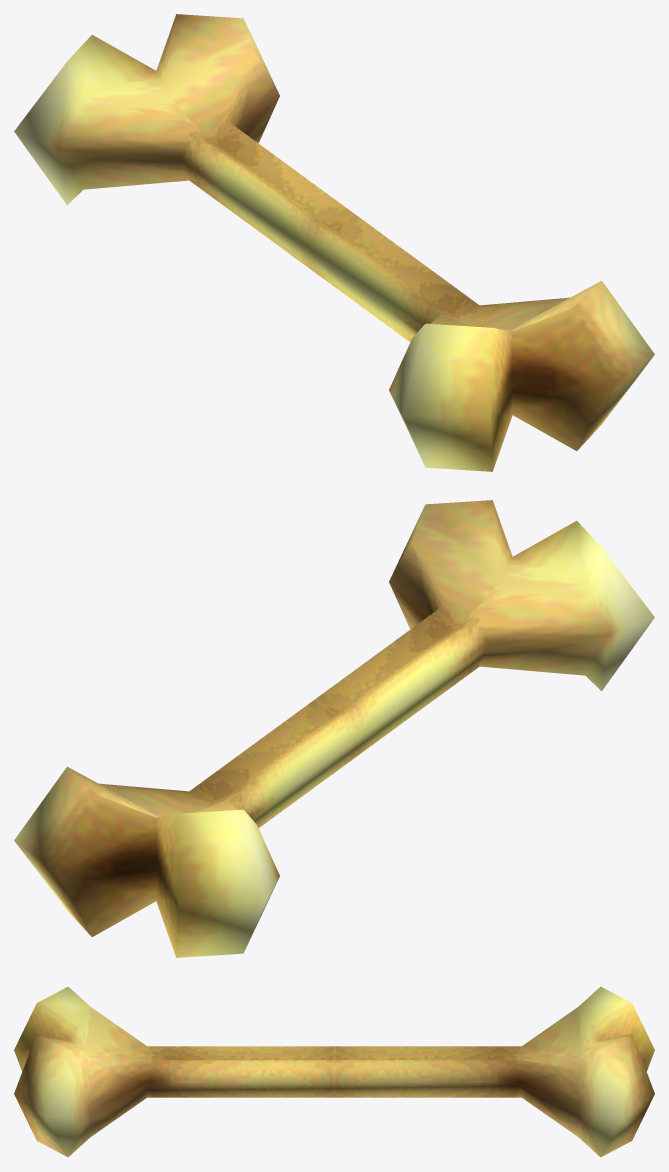
File: Bone.fbx
3 renders of one model, top to bottom at view 1: azimuth 30°, elevation 25°; view 2: azimuth 150°, elevation 25°; view 3: azimuth 270°, elevation 25°, orthographic. The views are drawn at different scales.
Visible parts, largest first — view 1: Bone; view 2: Bone; view 3: Bone.
Part boxes in pixels (bbox=[...]): Bone: bbox=[14, 14, 654, 471]; Bone: bbox=[14, 500, 654, 957]; Bone: bbox=[14, 986, 654, 1157].
Bounding box in the file's own units: 4.91 × 2.68 × 14.53.
